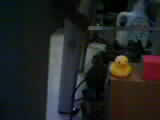duck: (109, 52, 131, 76)
